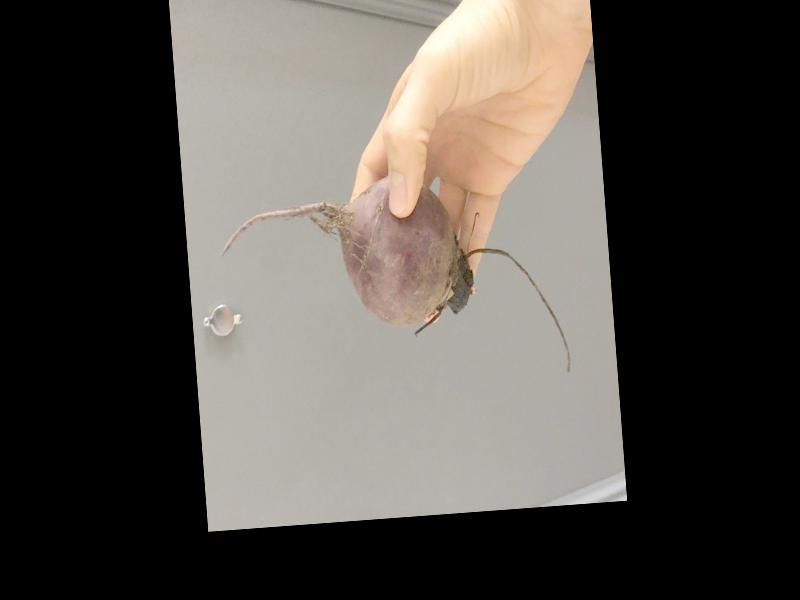Beet: (217, 164, 571, 399)
